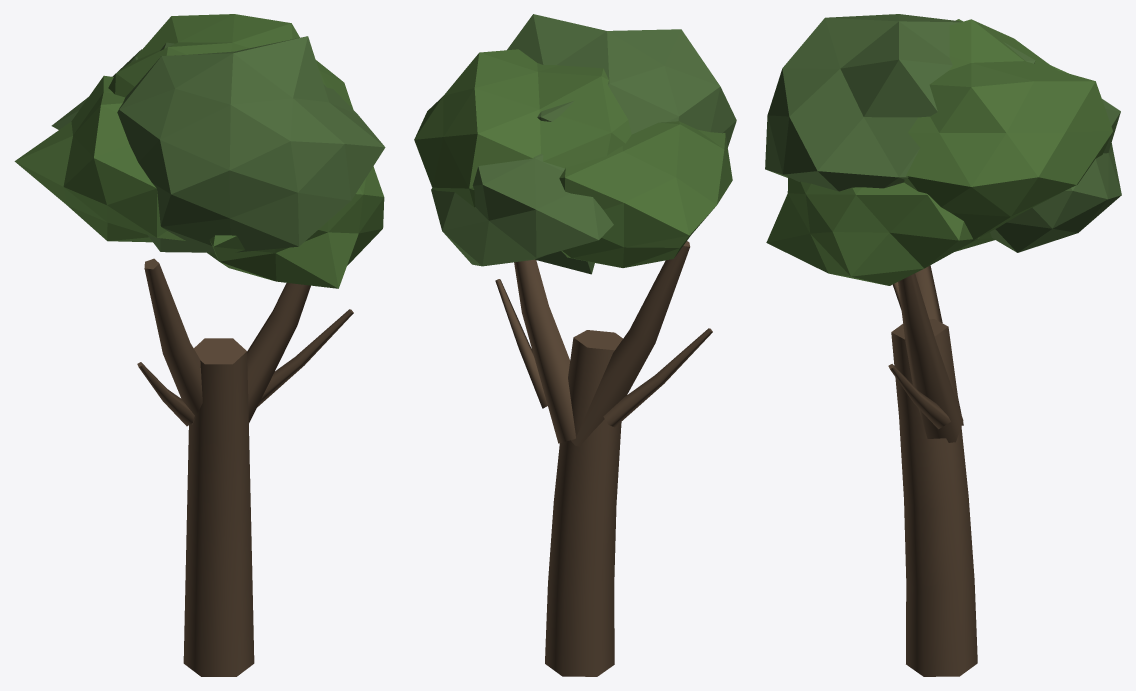
File: land-forest-03.glb
The picture shows the model from 3 angles, left to right: view 1: azimuth 30°, elevation 25°; view 2: azimuth 150°, elevation 25°; view 3: azimuth 270°, elevation 25°; orthographic projection. The views are drawn at different scales.
Parts seen in each view (by area): view 1: land.forest.03; view 2: land.forest.03; view 3: land.forest.03.
Boxes of the visible parts, <box> form: land.forest.03: <box>14,14,385,676</box>; land.forest.03: <box>414,14,736,676</box>; land.forest.03: <box>765,14,1121,676</box>.
Bounding box in the file's own units: 2.65 × 5.34 × 2.7.
